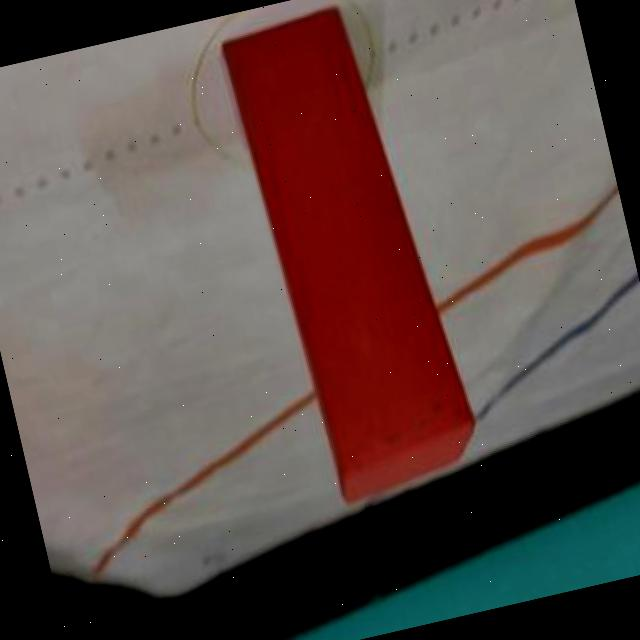redbox: (215, 0, 483, 510)
